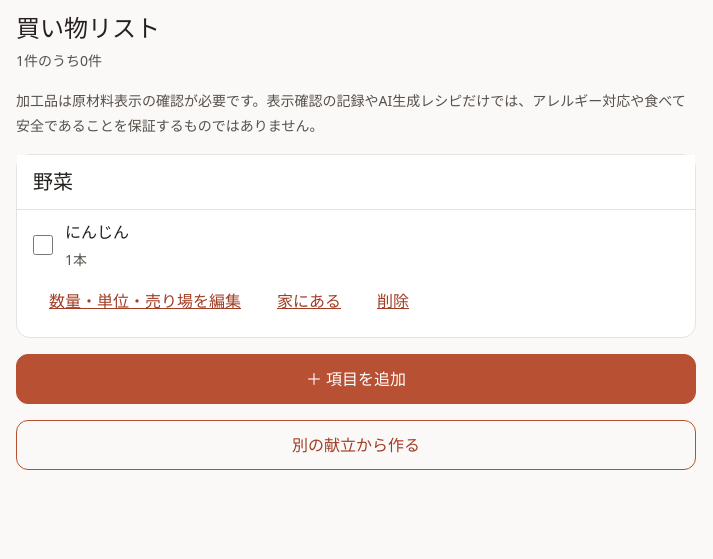
Test: ShoppingListPage safety gate › closes and reruns the gate without writing when the database reports a fingerprint conflict
Click the checkbox named "購入済みにする" at (43, 245), box [33, 235, 53, 255]
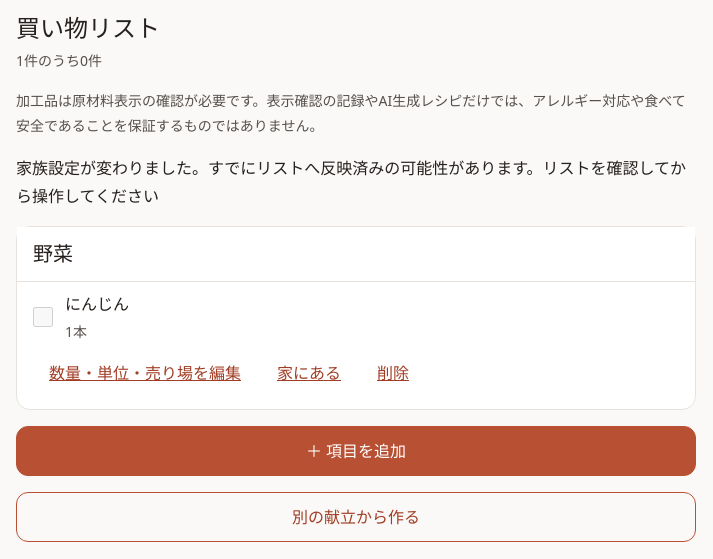
Expected: the checkbox named "購入済みにする" is disabled, [33, 307, 53, 327]
